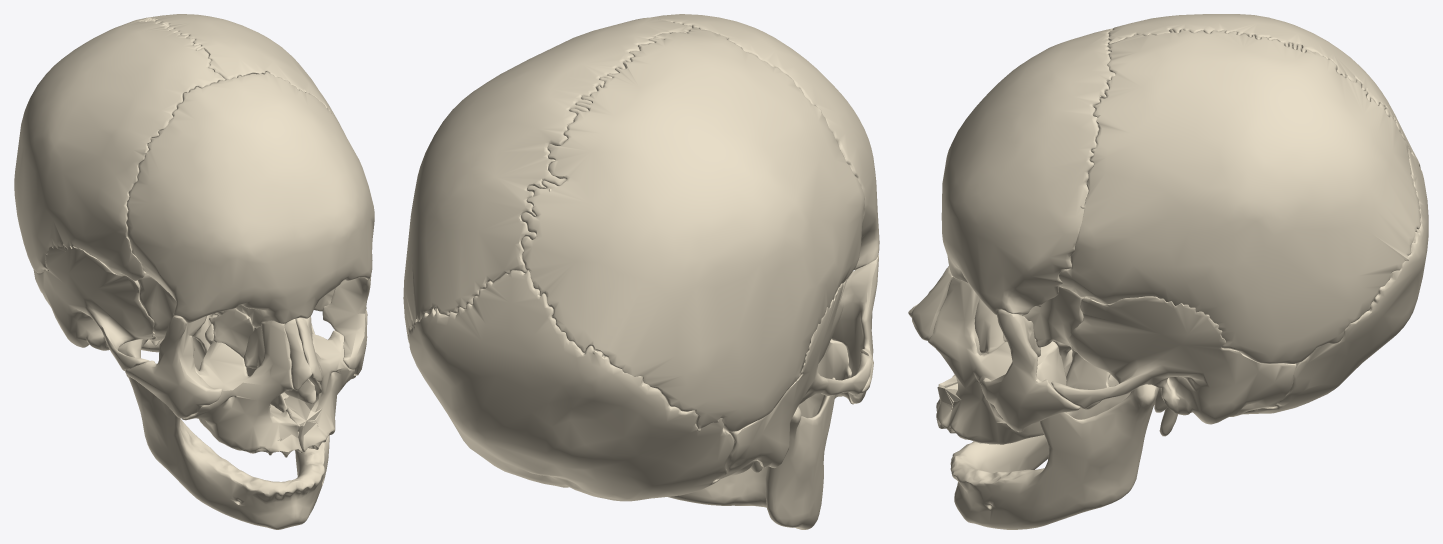
File: skull.glb
3 renders of one model, left to right at view 1: azimuth 30°, elevation 25°; view 2: azimuth 150°, elevation 25°; view 3: azimuth 270°, elevation 25°, orthographic. The views are drawn at different scales.
Parts seen in each view (by area): view 1: Frontal bone, Parietal bone right, Mandible, Maxilla right, Temporal bone right, Parietal bone left, Zygomatic bone right, Maxilla left, Zygomatic bone left, Sphenoid bone, Ethmoid bone, Nasal bone right (+3 smaller); view 2: Parietal bone right, Occipital bone, Parietal bone left, Frontal bone, Mandible, Temporal bone right, Zygomatic bone right, Maxilla right; view 3: Parietal bone left, Frontal bone, Mandible, Temporal bone left, Maxilla left, Occipital bone, Parietal bone right, Zygomatic bone left, Sphenoid bone, Nasal bone left, Lacrimal bone left.
Boxes of the visible parts, x1=… form: Frontal bone: x1=126, y1=72, x2=374, y2=328; Parietal bone right: x1=14, y1=18, x2=225, y2=280; Mandible: x1=118, y1=324, x2=329, y2=529; Maxilla right: x1=182, y1=321, x2=302, y2=457; Temporal bone right: x1=33, y1=244, x2=154, y2=377; Parietal bone left: x1=138, y1=14, x2=345, y2=135; Zygomatic bone right: x1=125, y1=315, x2=222, y2=418; Maxilla left: x1=271, y1=316, x2=355, y2=451; Zygomatic bone left: x1=322, y1=275, x2=371, y2=375; Sphenoid bone: x1=138, y1=273, x2=344, y2=370; Ethmoid bone: x1=209, y1=308, x2=254, y2=358; Nasal bone right: x1=284, y1=319, x2=312, y2=390; Parietal bone right: x1=521, y1=27, x2=864, y2=431; Occipital bone: x1=408, y1=270, x2=734, y2=501; Parietal bone left: x1=403, y1=17, x2=692, y2=342; Frontal bone: x1=651, y1=14, x2=879, y2=269; Mandible: x1=668, y1=377, x2=835, y2=529; Temporal bone right: x1=717, y1=278, x2=872, y2=479; Zygomatic bone right: x1=831, y1=255, x2=878, y2=403; Maxilla right: x1=798, y1=339, x2=854, y2=417; Parietal bone left: x1=1059, y1=29, x2=1420, y2=363; Frontal bone: x1=941, y1=28, x2=1115, y2=315; Mandible: x1=950, y1=374, x2=1159, y2=529; Temporal bone left: x1=1051, y1=296, x2=1296, y2=436; Maxilla left: x1=928, y1=278, x2=1066, y2=444; Occipital bone: x1=1241, y1=147, x2=1428, y2=414; Parietal bone right: x1=1108, y1=14, x2=1420, y2=168; Zygomatic bone left: x1=981, y1=309, x2=1080, y2=431; Sphenoid bone: x1=1022, y1=286, x2=1110, y2=409; Nasal bone left: x1=911, y1=266, x2=953, y2=340; Lacrimal bone left: x1=974, y1=298, x2=1004, y2=353.
Size of the model in its own units: 0.151 by 0.2146 by 0.2088.
